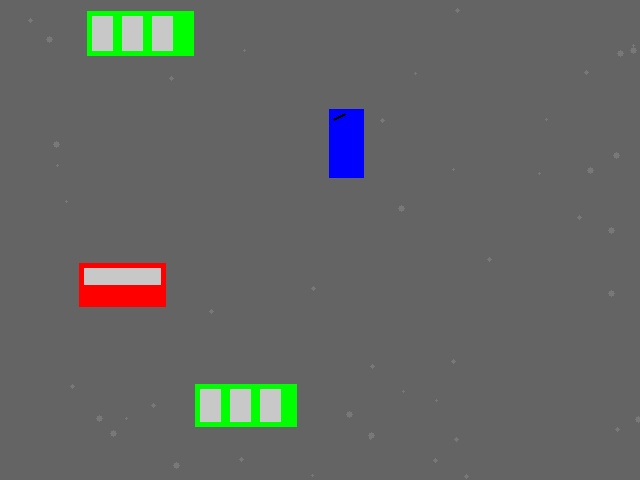bus: (87, 11, 193, 55), (195, 384, 296, 426)
car: (79, 263, 165, 306)
motorcycle: (329, 109, 363, 177)
